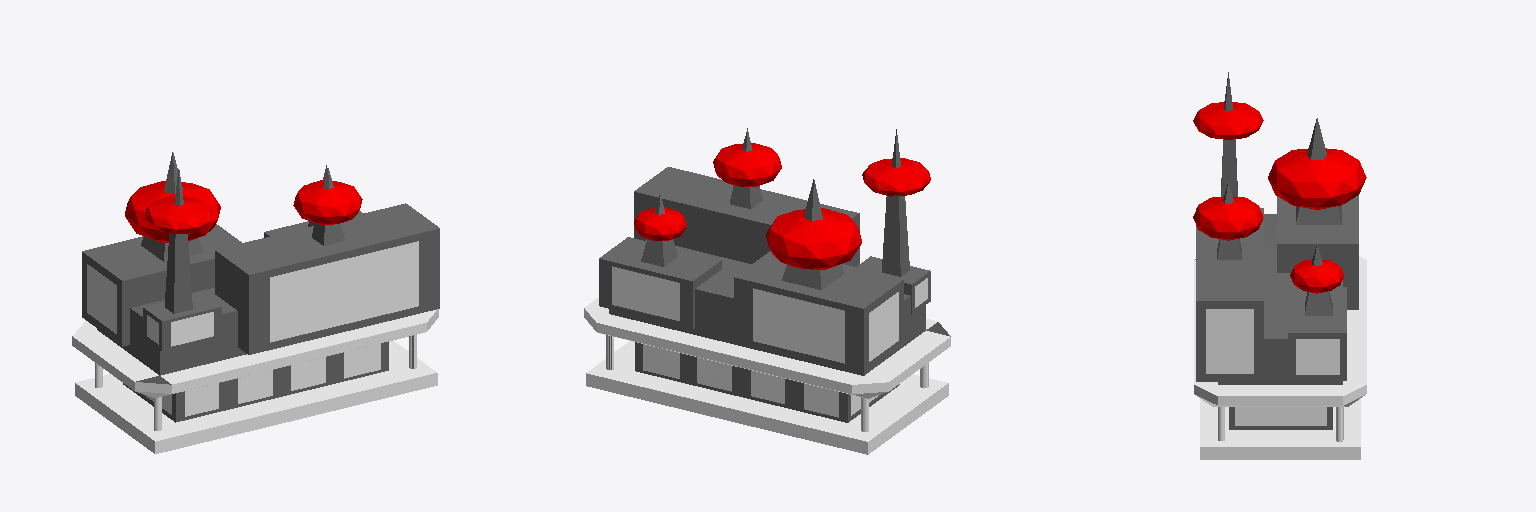
3 renders of one model, left to right at view 1: azimuth 30°, elevation 25°; view 2: azimuth 150°, elevation 25°; view 3: azimuth 270°, elevation 25°, orthographic.
Visible parts, largest first — view 1: Cube; view 2: Cube; view 3: Cube.
Boxes of the visible parts, box(x1,y1,x2,y2) form: Cube: box(72, 152, 439, 453); Cube: box(584, 128, 950, 454); Cube: box(1193, 72, 1366, 459).
Bounding box in the file's own units: 7.11 × 6.02 × 3.52.
Materials: 1 (1 with a texture image).